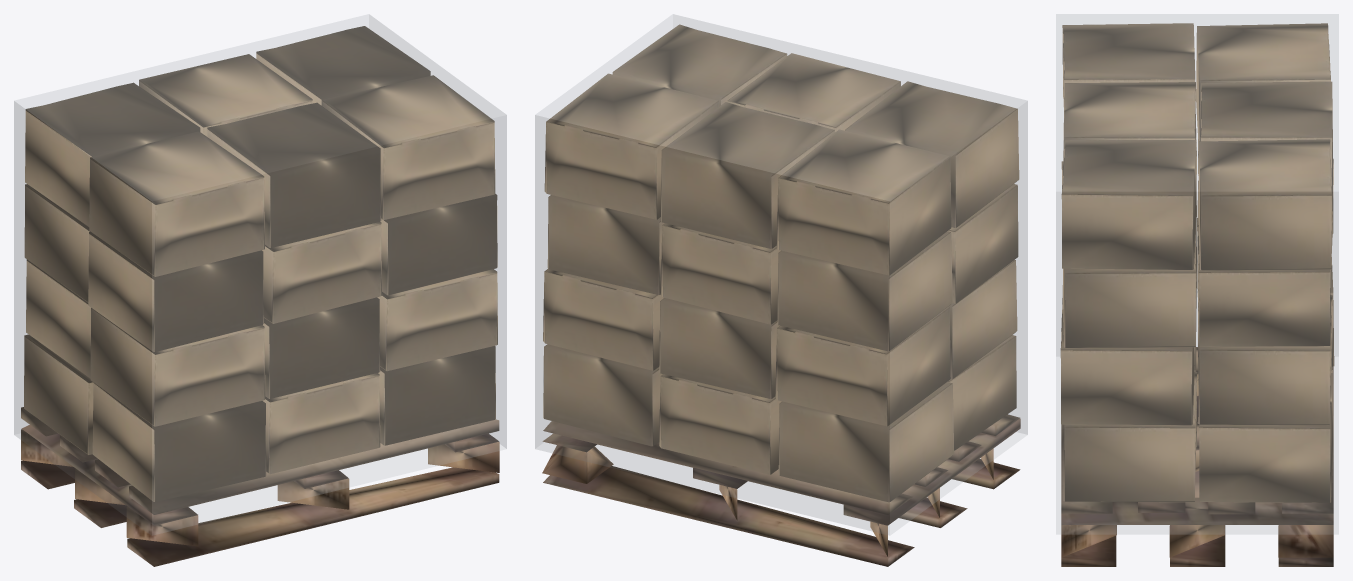
The model's file is pallet_wrapped-lo.glb.
3 renders of one model, left to right at view 1: azimuth 30°, elevation 25°; view 2: azimuth 150°, elevation 25°; view 3: azimuth 270°, elevation 25°, orthographic. The views are drawn at different scales.
Visible parts, largest first — view 1: body; view 2: body; view 3: body.
Part boxes in pixels (<box>): body: <box>14,14,506,566</box>; body: <box>535,14,1027,566</box>; body: <box>1056,14,1338,566</box>.
Size of the model in its own units: 1.23 by 1.22 by 0.8285.
Materials: 3 (2 with a texture image).
